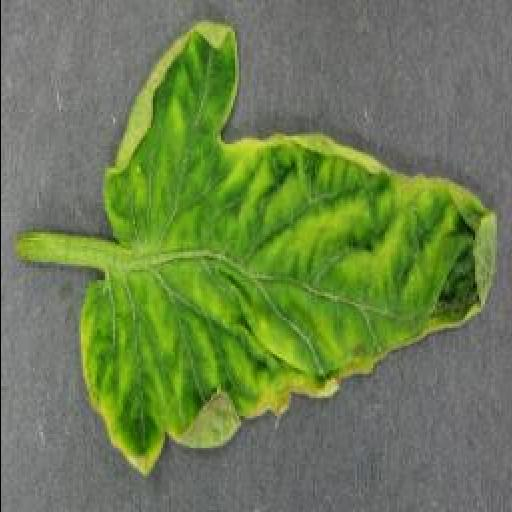disease_tomato: (76, 20, 498, 476)
